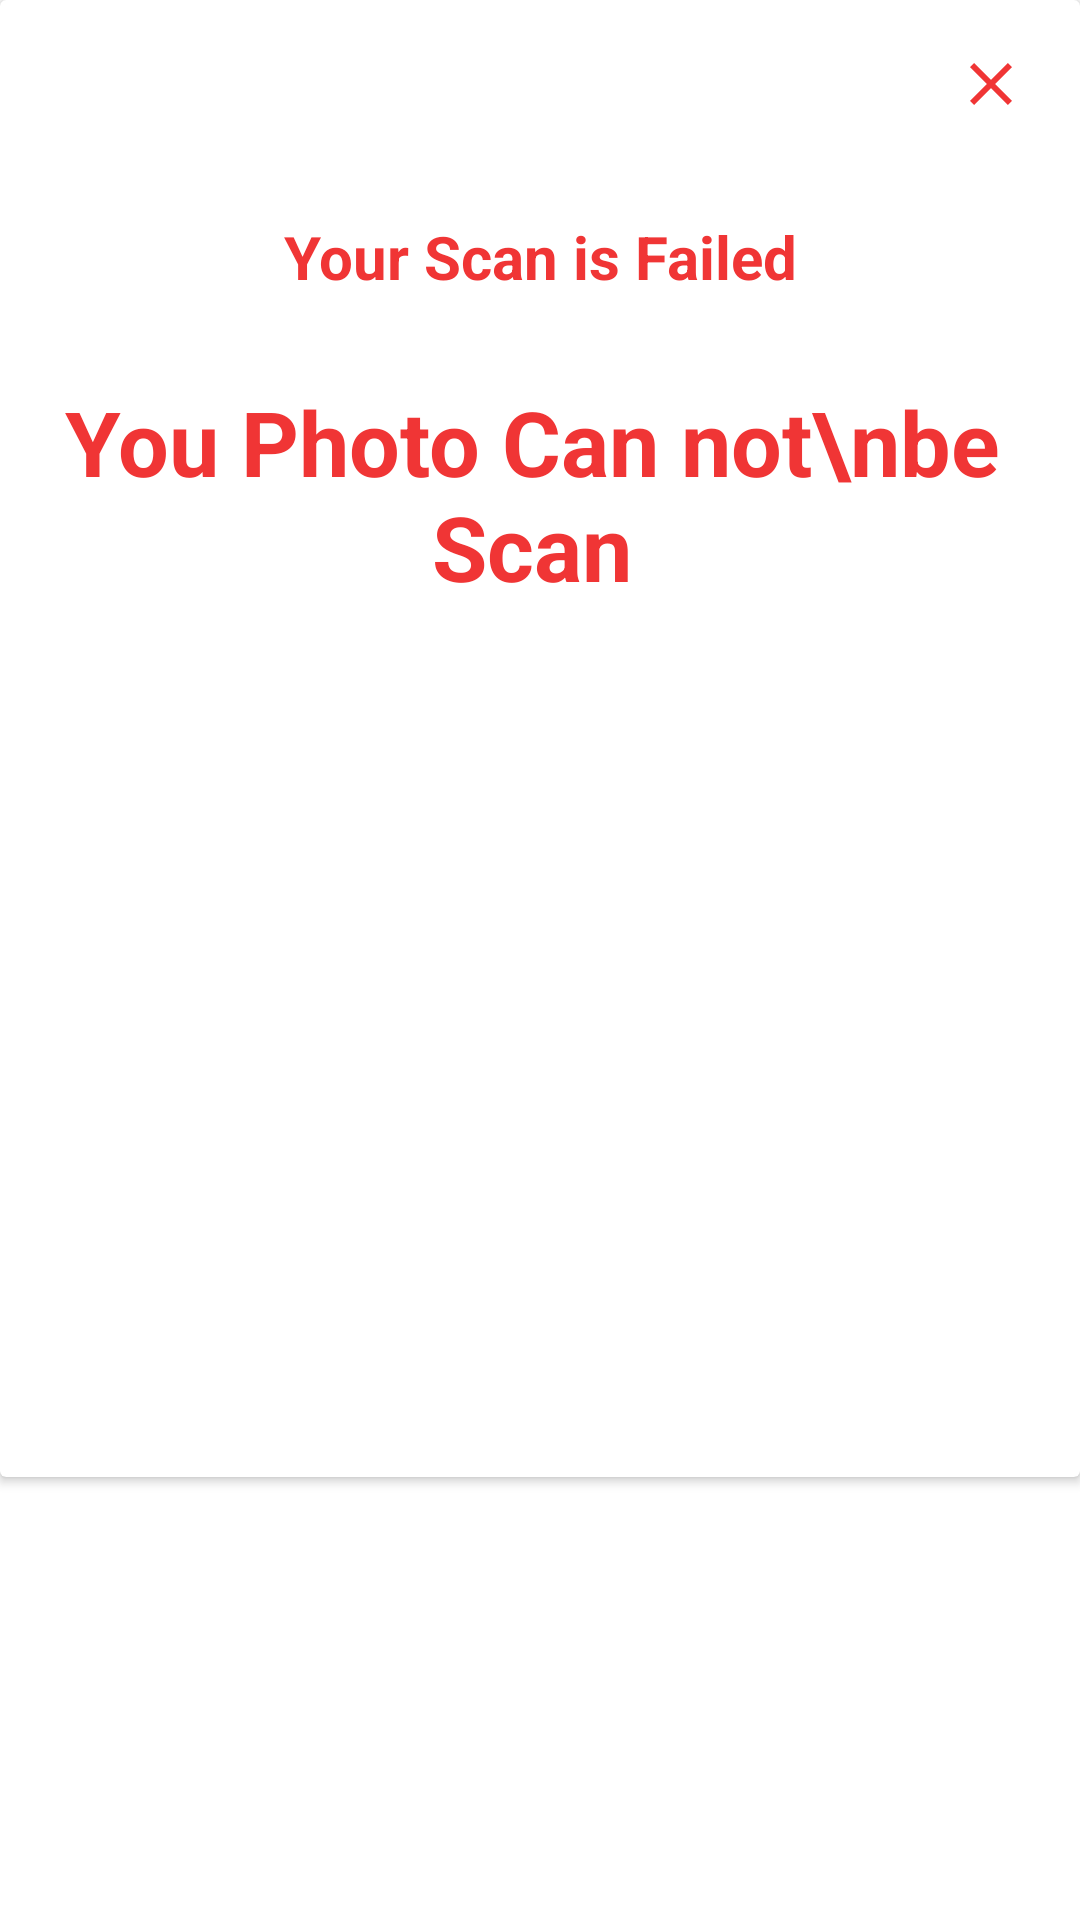

Icon click points for this 1080×1920 phone screenshot, format (x=x, y=y):
close: (x=991, y=84)
